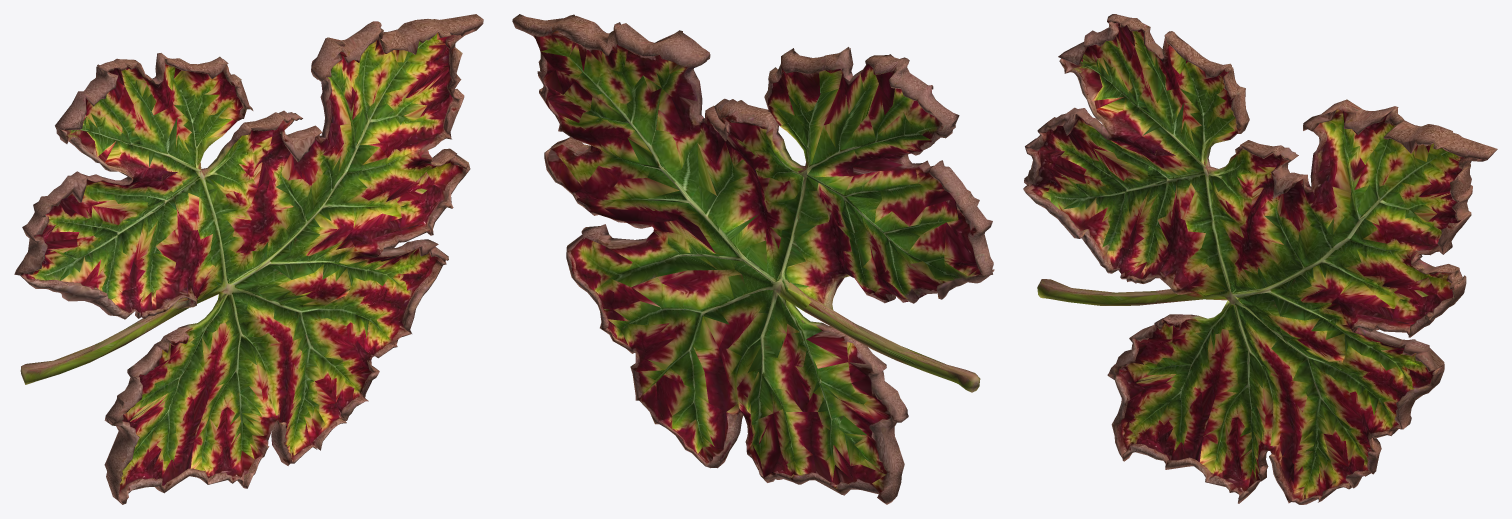
Rendered from grape_esca.glb.
The picture shows the model from 3 angles, left to right: view 1: azimuth 30°, elevation 25°; view 2: azimuth 150°, elevation 25°; view 3: azimuth 330°, elevation 25°; orthographic projection.
Visible parts, largest first — view 1: grape_esca; view 2: grape_esca; view 3: grape_esca.
Part boxes in pixels (box(x1,y1,x2,y2)): grape_esca: box(14, 14, 483, 504); grape_esca: box(512, 14, 994, 504); grape_esca: box(1023, 14, 1497, 504).
Bounding box in the file's own units: 1.09 × 1 × 0.1362.
1 material, 1 textured.
